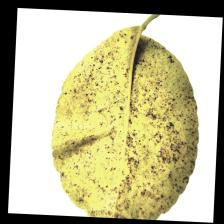canker: (83, 78, 190, 185)
